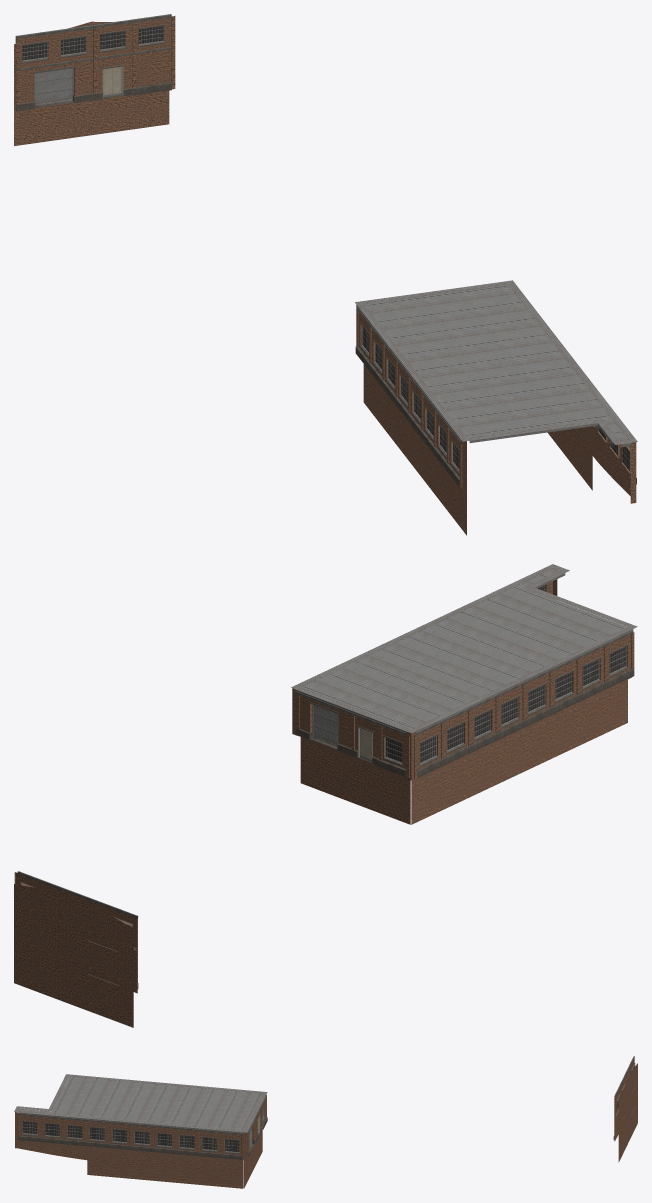
The model's file is fachadas-detalhadas.glb.
3 renders of one model, top to bottom at view 1: azimuth 30°, elevation 25°; view 2: azimuth 150°, elevation 25°; view 3: azimuth 270°, elevation 25°, orthographic. The views are drawn at different scales.
Visible parts, largest first — view 1: Industrial facades / illustrated retrofit; view 2: Industrial facades / illustrated retrofit; view 3: Industrial facades / illustrated retrofit.
Part boxes in pixels (x1,y1,x2,y2): Industrial facades / illustrated retrofit: (14,14,637,535); Industrial facades / illustrated retrofit: (14,564,637,1027); Industrial facades / illustrated retrofit: (14,1056,637,1188).
Size of the model in its own units: 17.4 by 11.92 by 78.22.
Materials: 6 (6 with a texture image).
